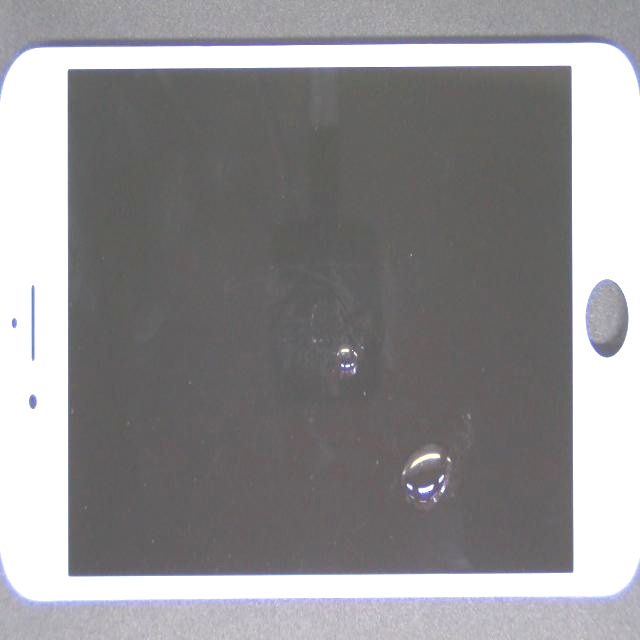oil: (195, 217, 606, 640), (193, 169, 538, 507)
